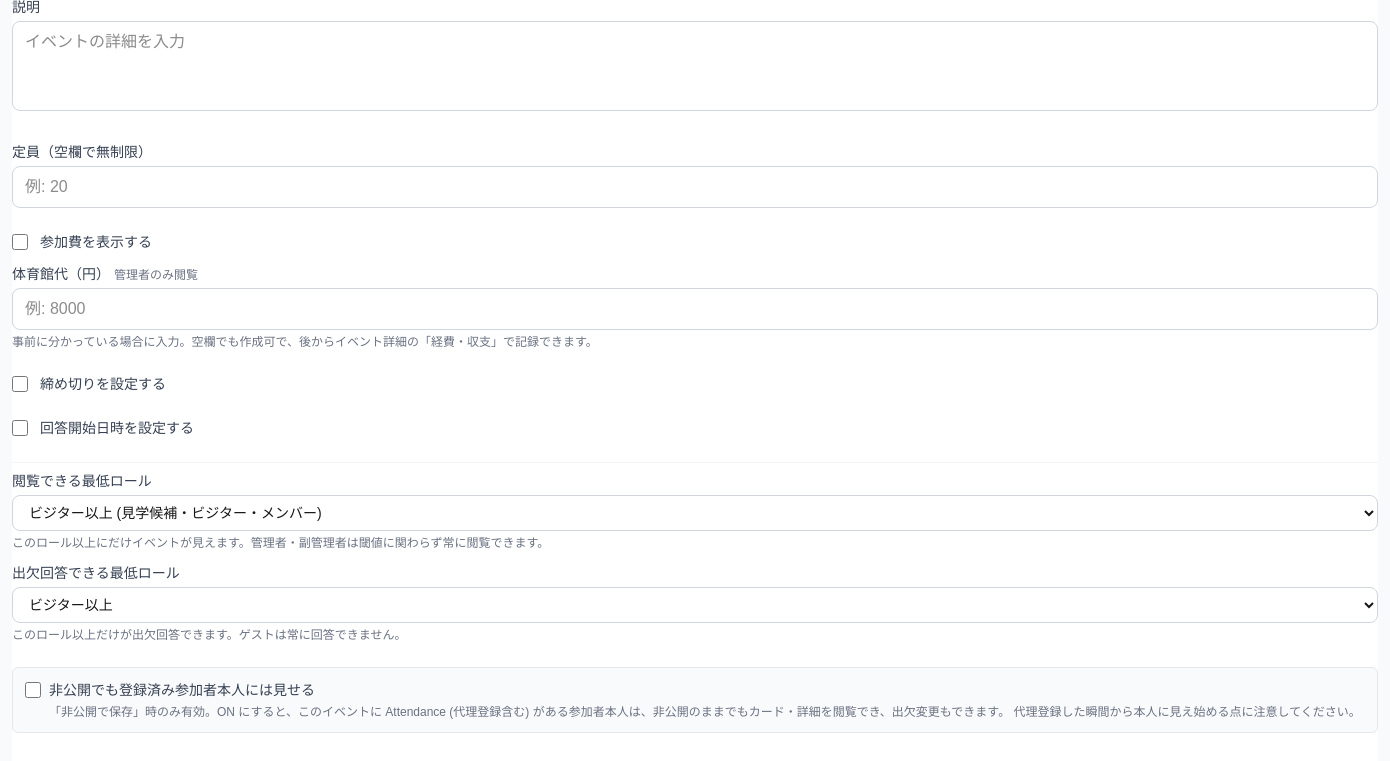
EventForm › 締め切り設定ONで締め切り日時欄が現れる
(page scrolled)
Expected: the field labelled "締め切り日時" is not shown
Click the checkbox labelled "締め切りを設定する": (20,384) top-left (12, 376), bottom-right (28, 392)
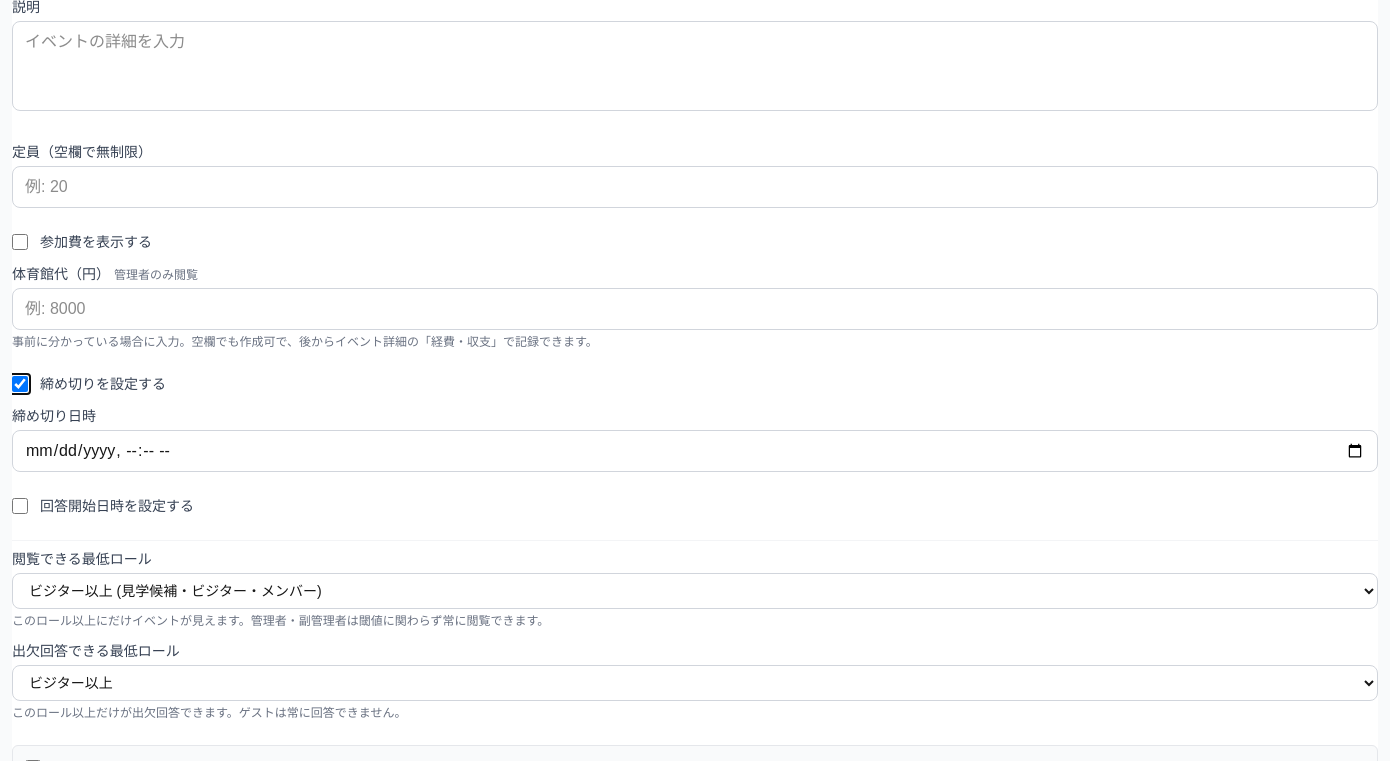
Now the field labelled "締め切り日時" is shown, box top-left (12, 430), bottom-right (1378, 472)
